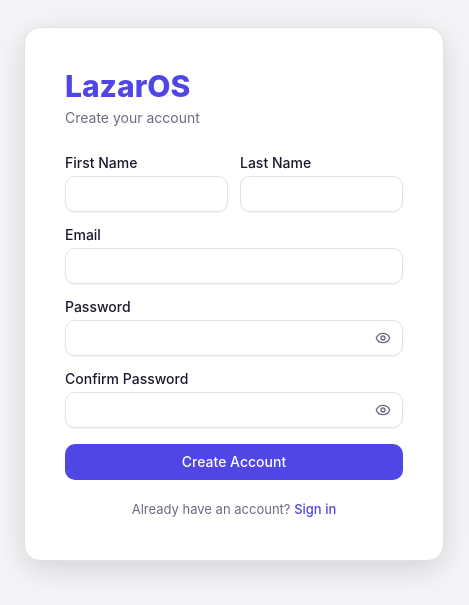
Test: RegisterPage › shows an inline error when the passwords do not match
Type "Ada" into the field labelled "First Name" at (146, 194), box [65, 176, 228, 212]
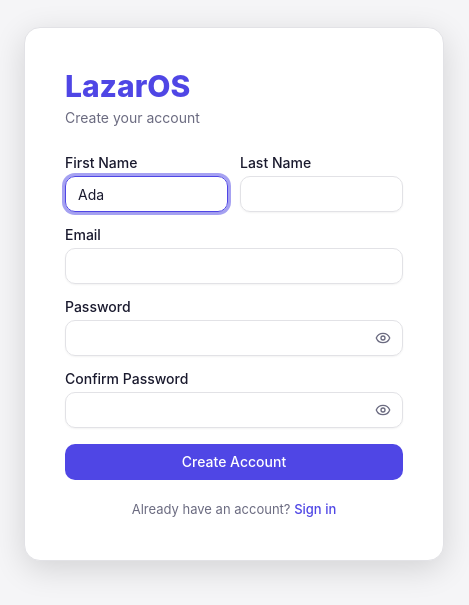
Type "Lovelace" into the field labelled "Last Name" at (322, 194), box [240, 176, 403, 212]
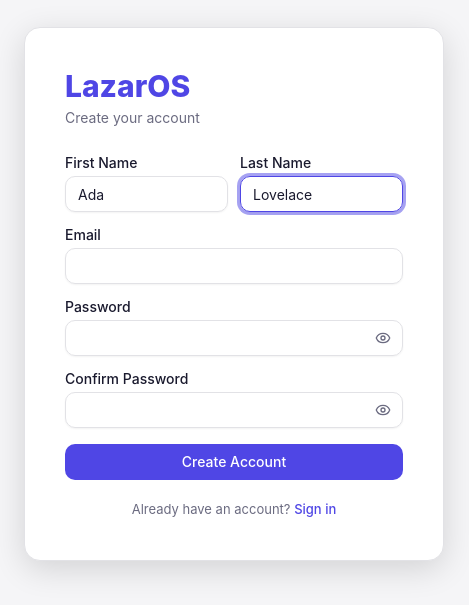
Type "ada@example.com" into the field labelled "Email" at (234, 266), box [65, 248, 403, 284]
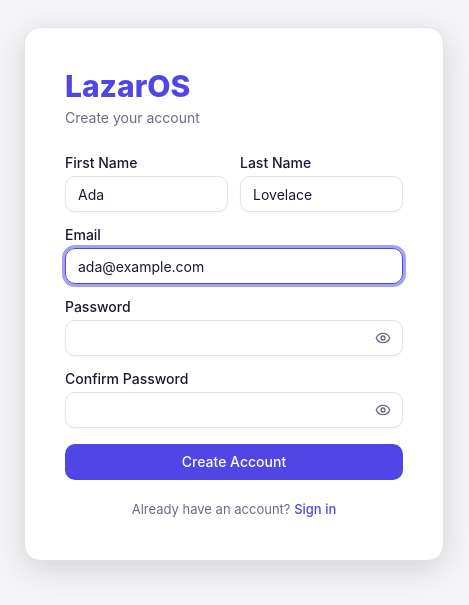
Type "Passw0rd!x" into the password field labelled "Password" at (234, 338), box [65, 320, 403, 356]
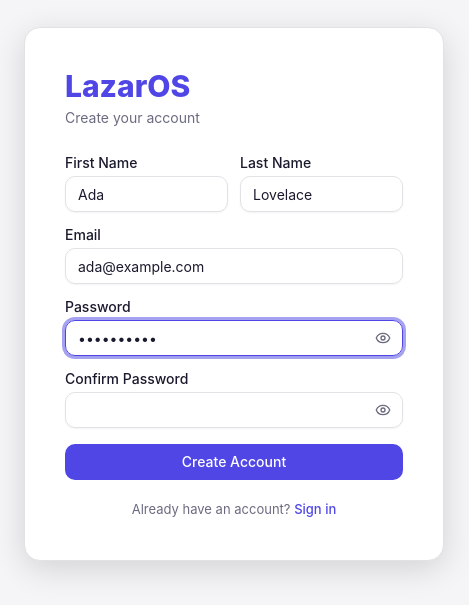
Type "Different1!" into the password field labelled "Confirm Password" at (234, 410), box [65, 392, 403, 428]
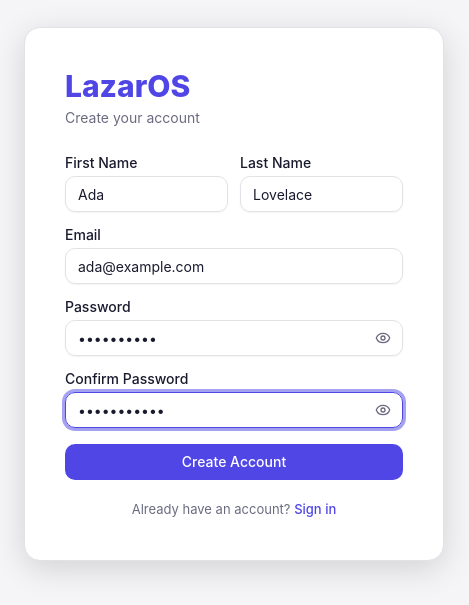
Click the button "Create Account" at (234, 462), box [65, 444, 403, 480]
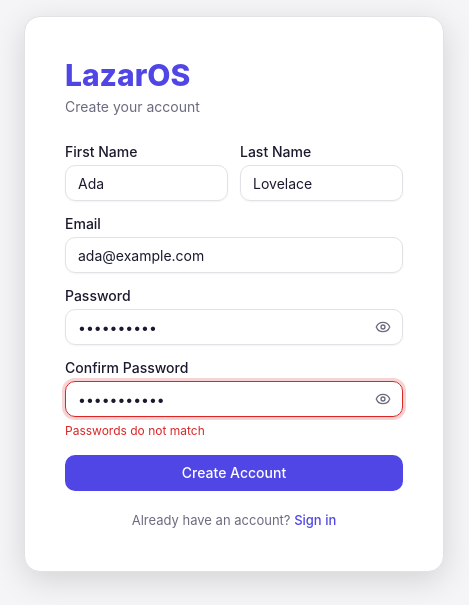
Expected: the text "Passwords do not match" is shown, [65, 423, 205, 438]
